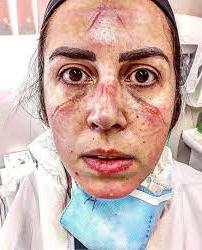mask_weared_incorrect: (44, 36, 170, 208)
